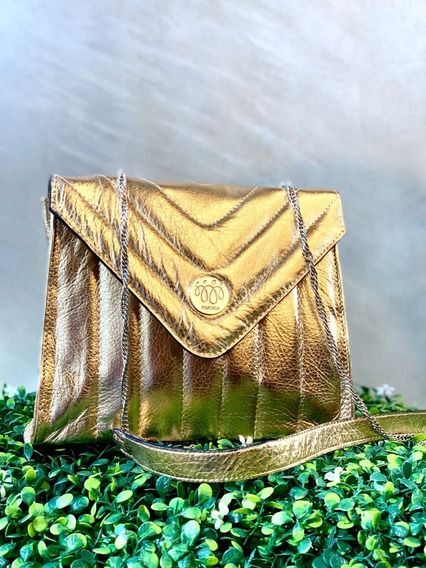cartera: (22, 165, 357, 453)
